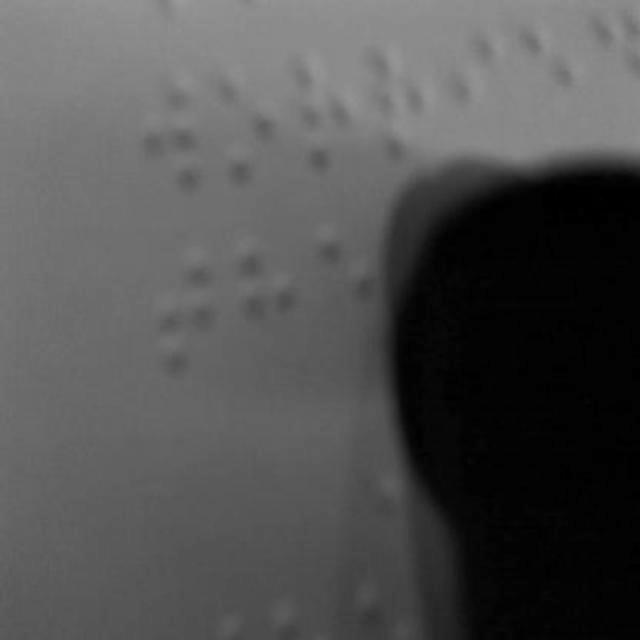braiile: (216, 50, 288, 194), (310, 213, 382, 354), (292, 45, 361, 183), (370, 36, 442, 168), (238, 225, 304, 369), (159, 239, 223, 385), (142, 66, 208, 200), (524, 16, 586, 154), (451, 22, 512, 148)
